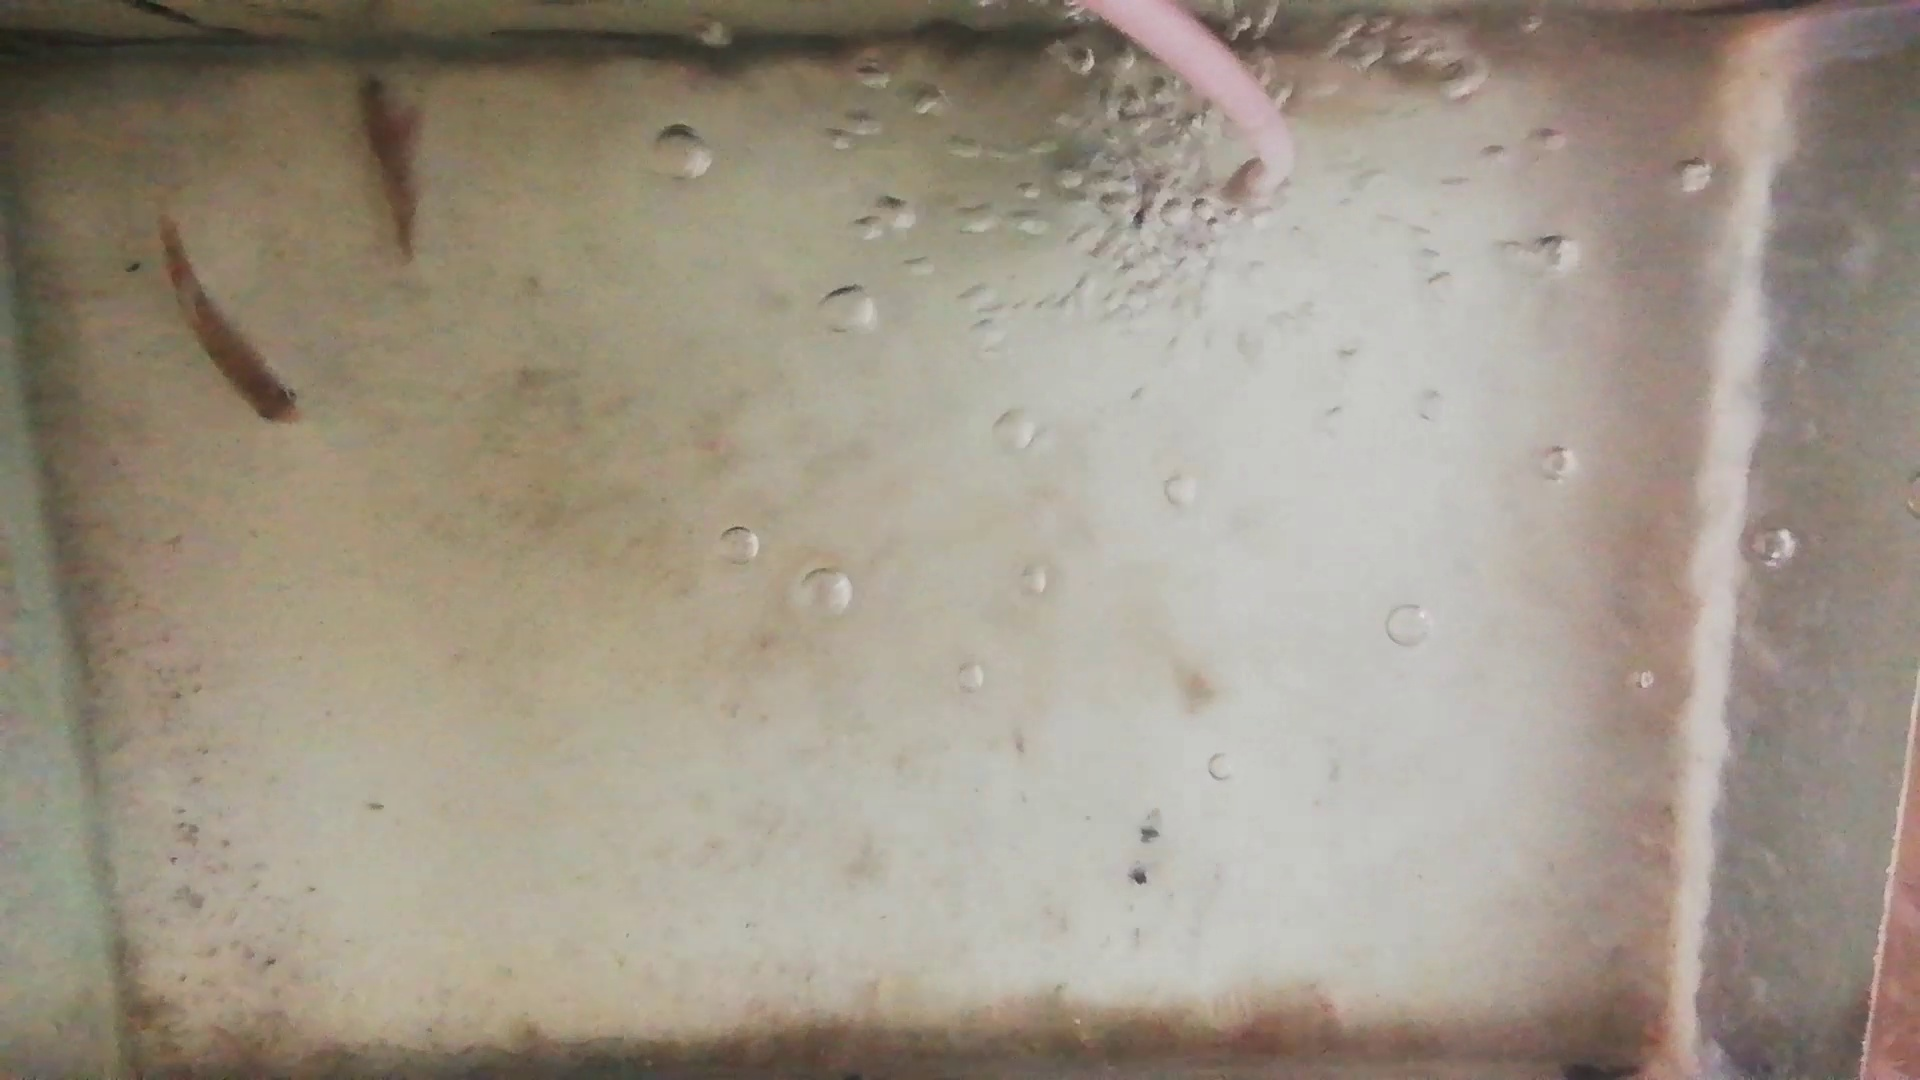fish: (157, 218, 298, 429), (352, 76, 415, 257)
